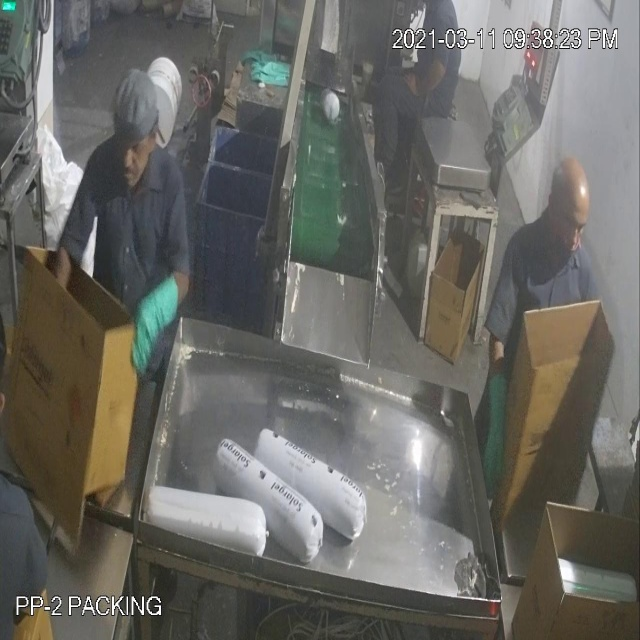Guantes: (484, 363, 508, 503)
Sin_guantes: (405, 50, 452, 118)
